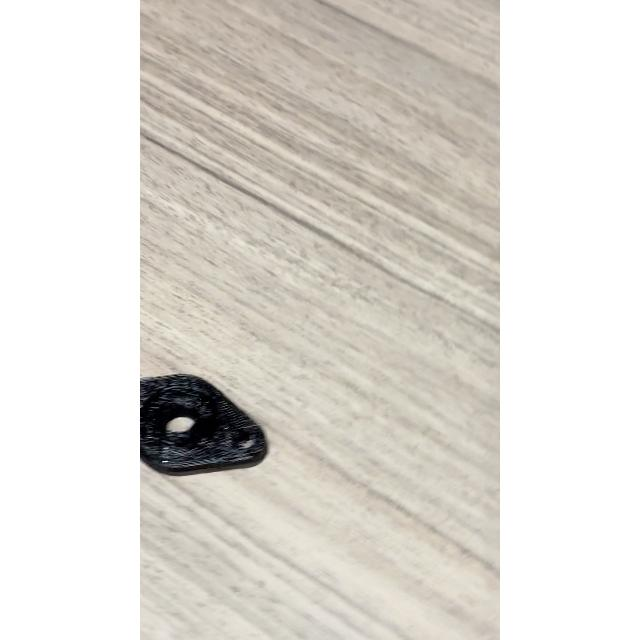Pieza_2: (140, 362, 268, 486)
